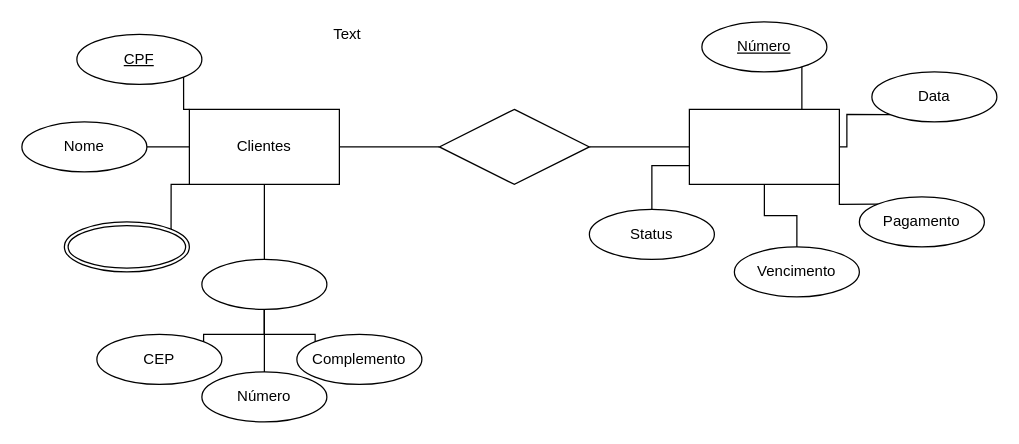
Some shapes in this 1019 by 444 pixel diagram are drawn without their labels. Here are the shapes that lost their labels. From the top down, the centre of each, then its label:
At pixel 513 146: "Realiza".
At pixel 763 146: "Compras".
At pixel 126 246: "Telefones".
At pixel 264 283: "Endereco".
